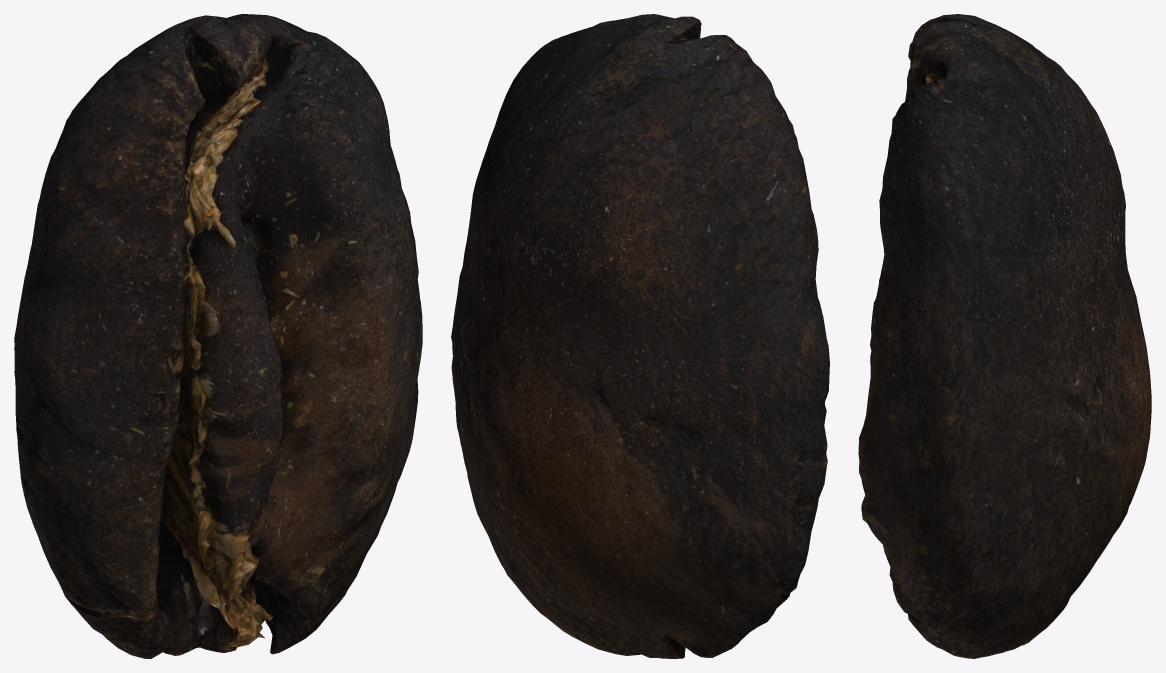
File: ember.glb
The picture shows the model from 3 angles, left to right: view 1: azimuth 30°, elevation 25°; view 2: azimuth 150°, elevation 25°; view 3: azimuth 270°, elevation 25°; orthographic projection. The views are drawn at different scales.
Visible parts, largest first — view 1: bean; view 2: bean; view 3: bean.
Part boxes in pixels (x1,y1,x2,y2): bean: (14, 14, 422, 658); bean: (451, 14, 829, 658); bean: (858, 14, 1151, 658).
Size of the model in its own units: 1.13 by 1.83 by 0.8078.
Materials: 4 (3 with a texture image).
